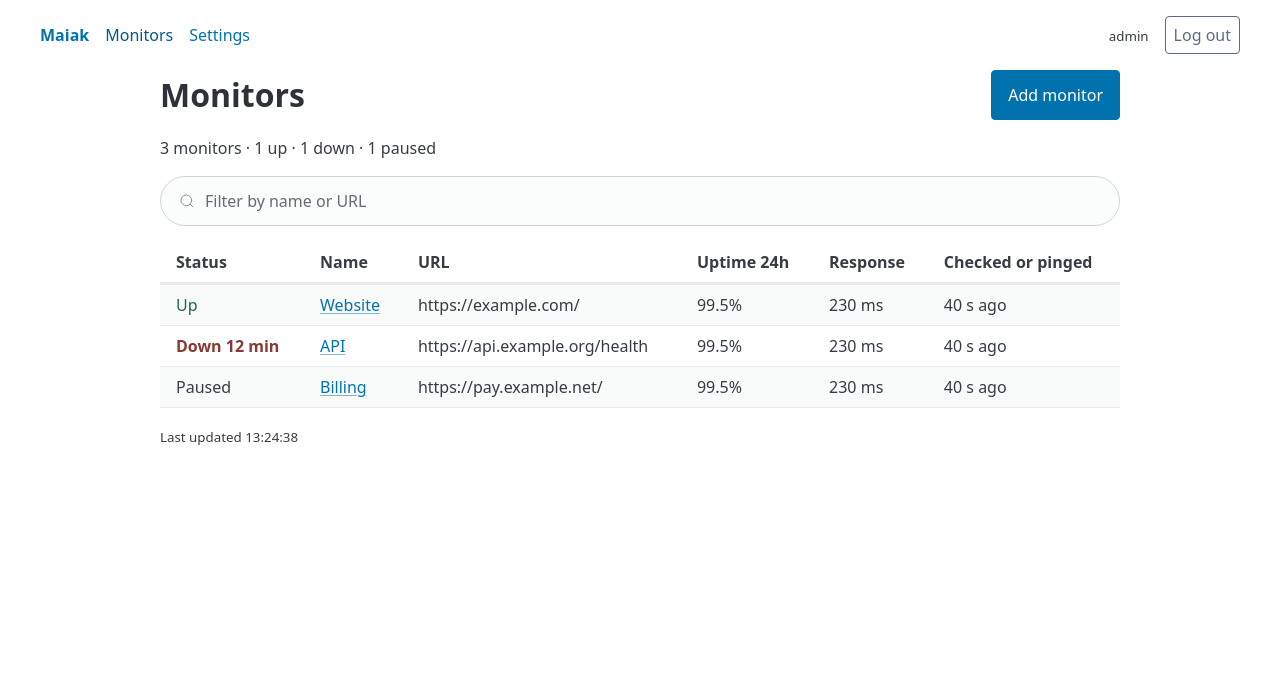
Scenario: monitors list › opens the details when a row is clicked
Click the text "https://example.com/".
click(541, 304)  # box top-left (402, 284), bottom-right (681, 326)
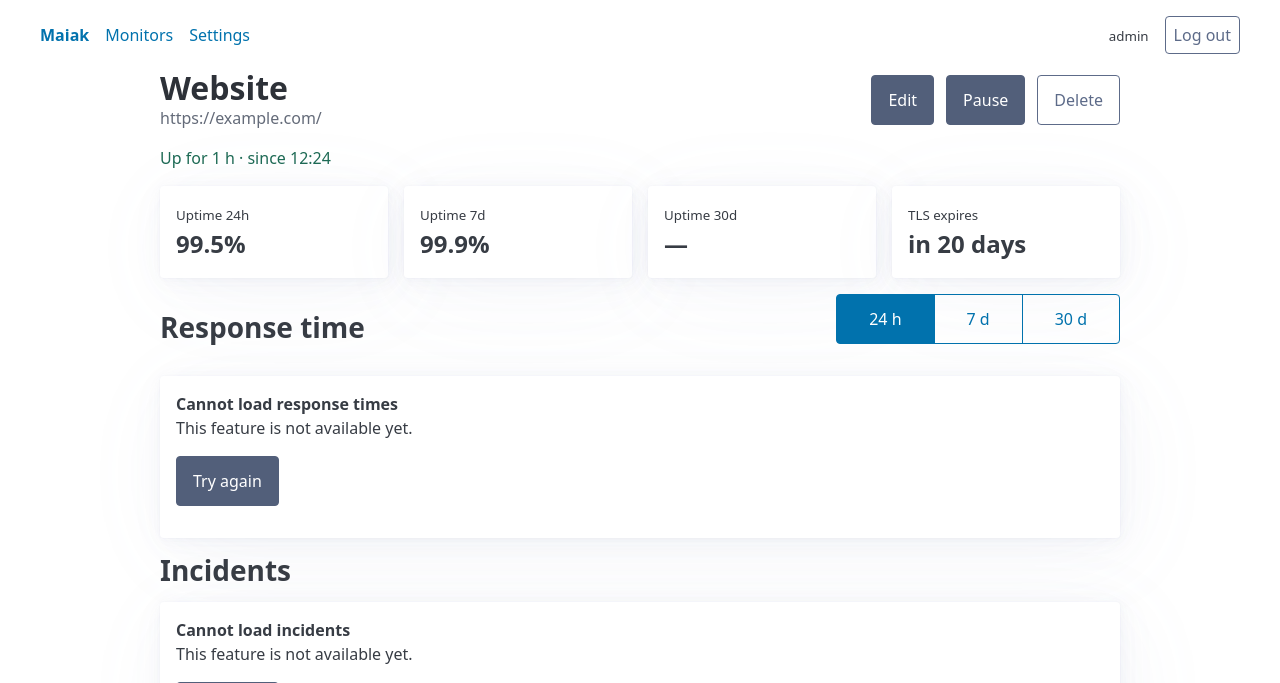
expect the heading "Website" is shown: met, box top-left (160, 66), bottom-right (288, 109)
